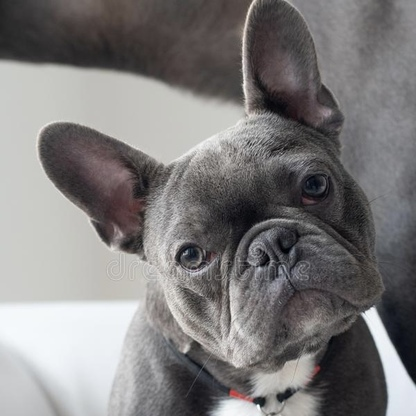bulldog: (34, 6, 409, 416)
